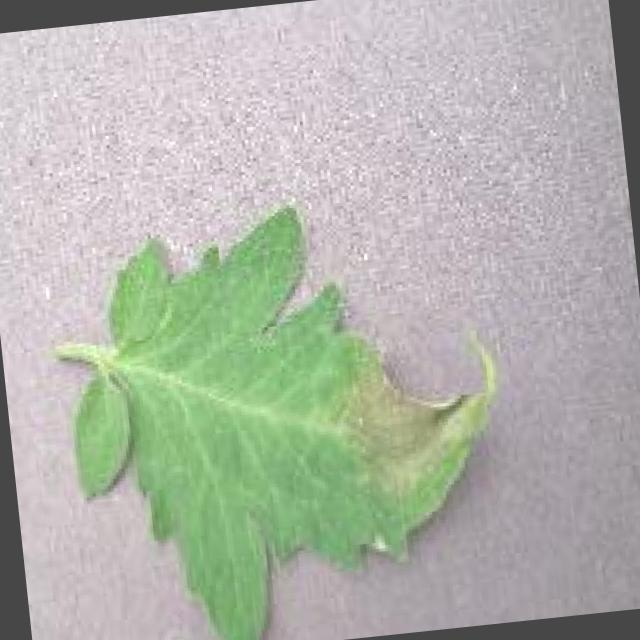leaf blight: (59, 199, 494, 640)
